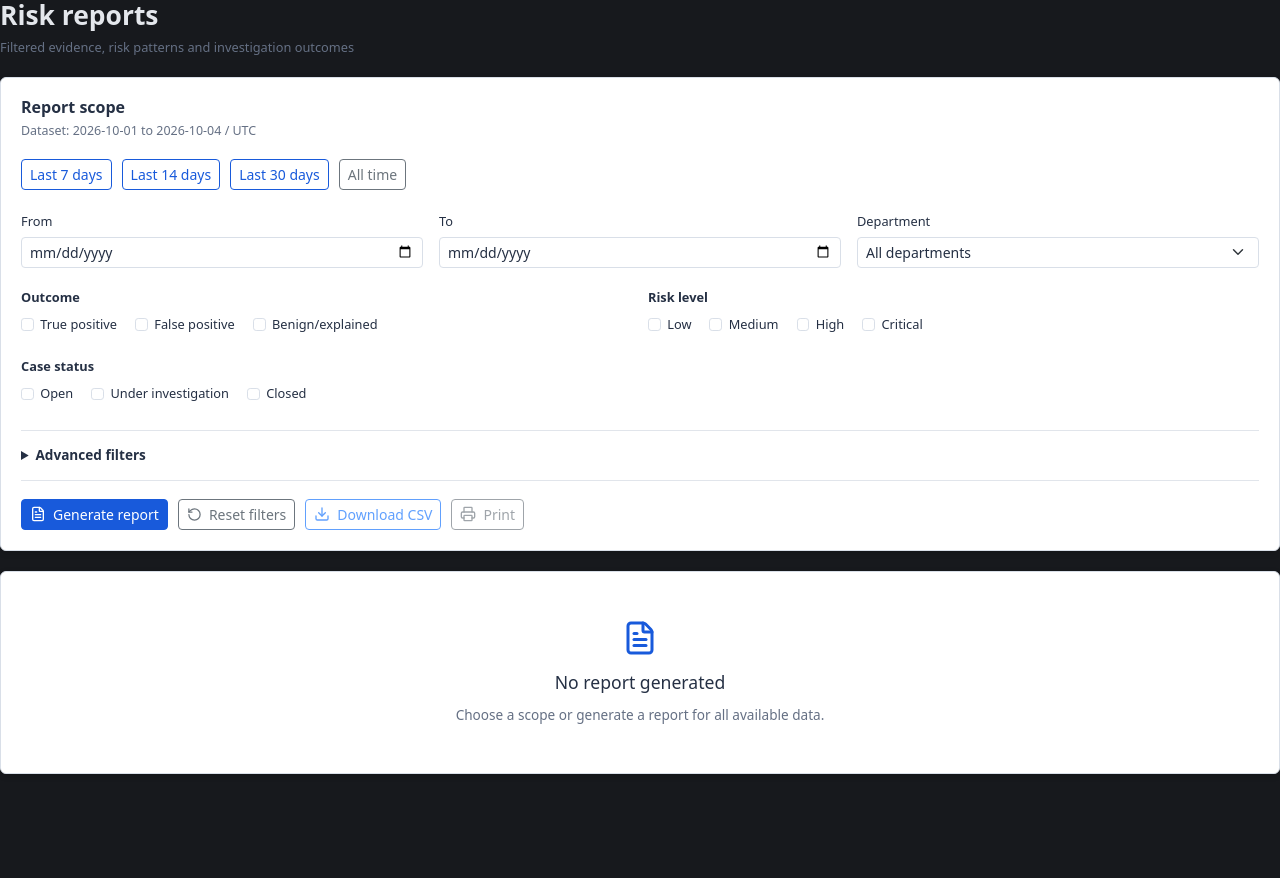
Test: exports the displayed scope after draft edits and surfaces export failures
Check: the button "Download CSV" is disabled, box top-left (305, 499), bottom-right (442, 530)
Select "Finance" in the dropdown labelled "Department" at (1058, 252), box top-left (857, 237), bottom-right (1259, 268)
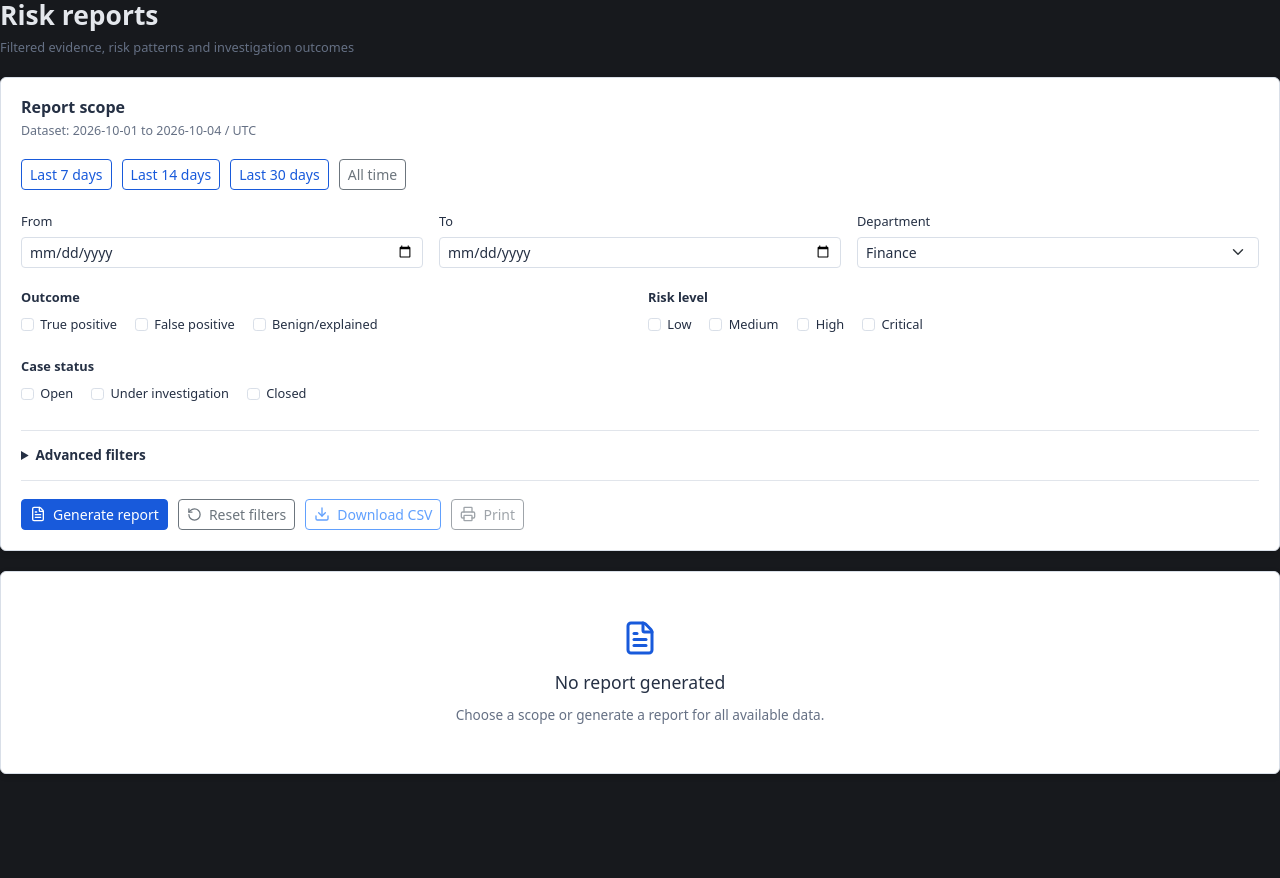
Click the button "Generate report".
click(94, 514)  # box top-left (21, 499), bottom-right (168, 530)
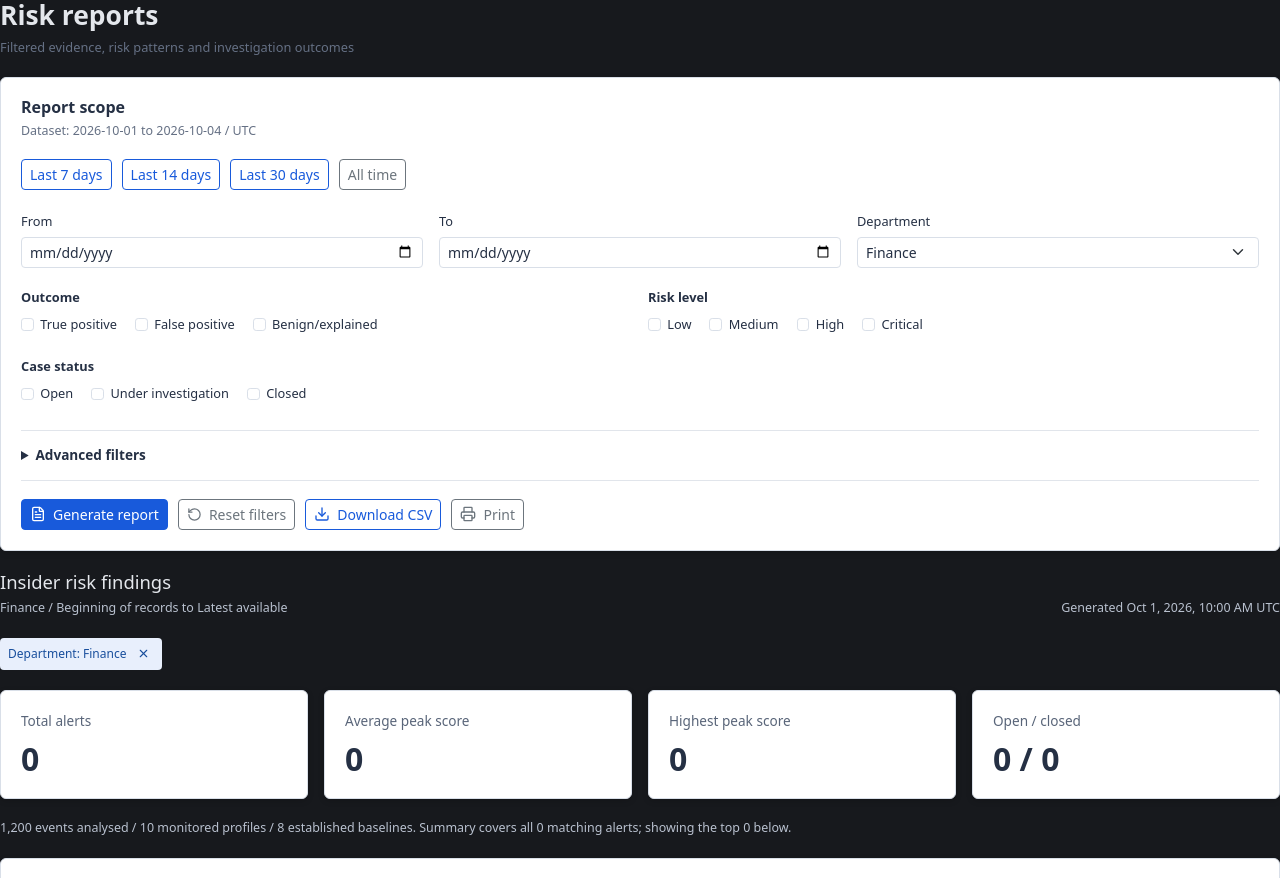
Check: the heading "Insider risk findings" is shown, box top-left (0, 569), bottom-right (171, 594)
Select "Research Lab" in the dropdown labelled "Department" at (1058, 252), box top-left (857, 237), bottom-right (1259, 268)
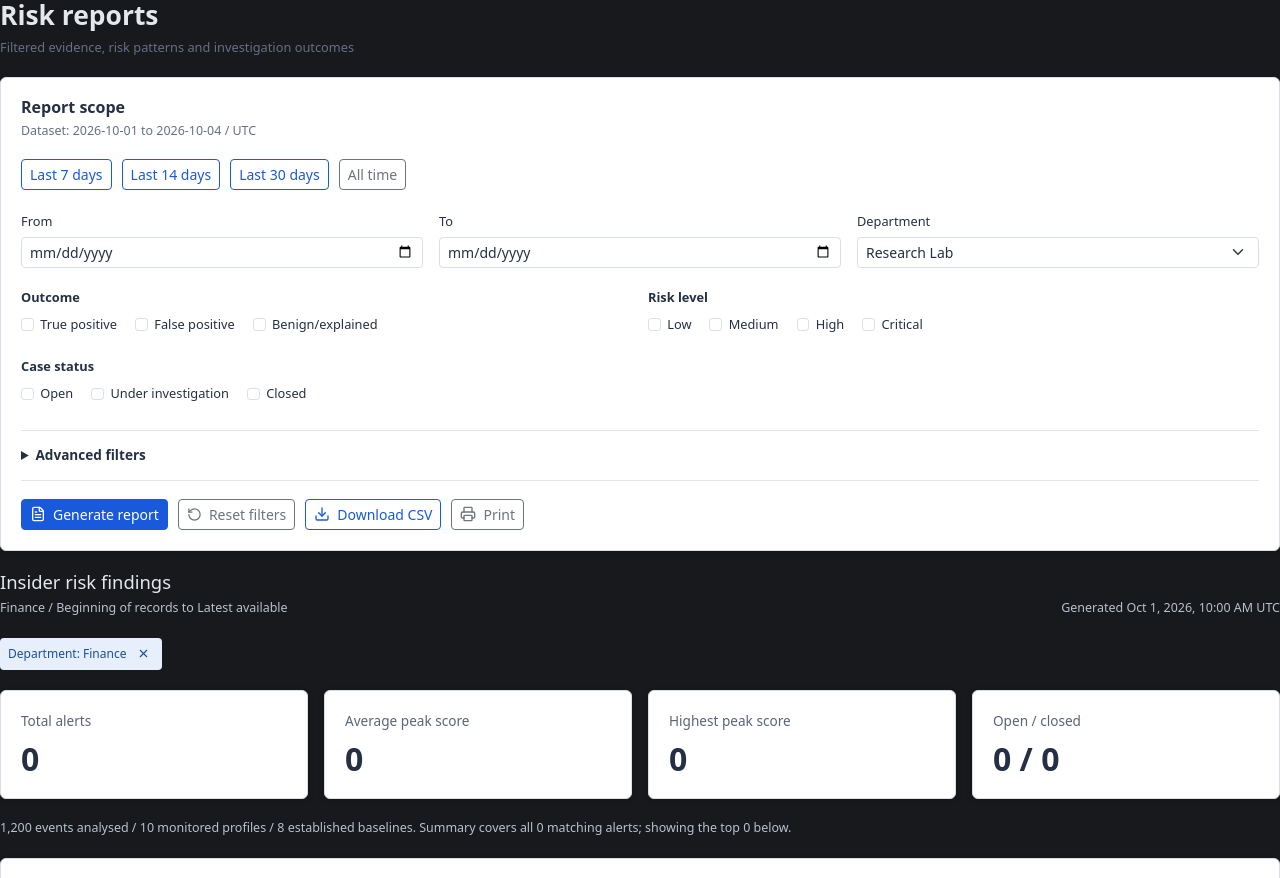
Click the button "Download CSV".
click(373, 514)  # box top-left (305, 499), bottom-right (442, 530)
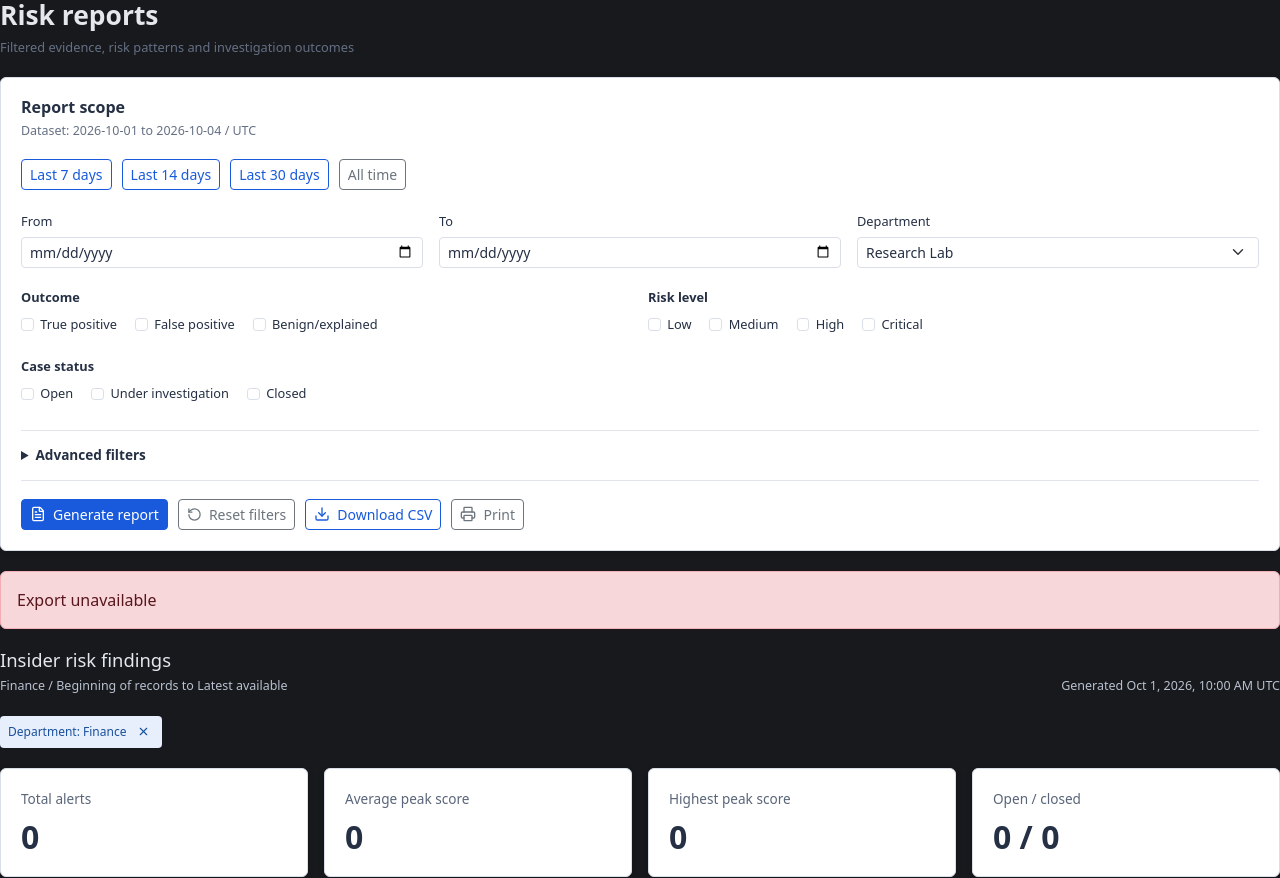
Check: the message reads "Export unavailable", box top-left (17, 589), bottom-right (156, 611)
